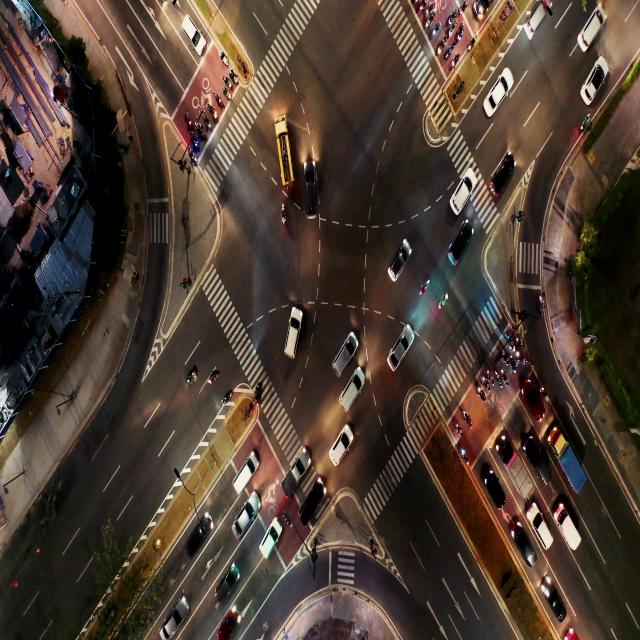bus: (276, 139, 290, 172)
car: (164, 611, 180, 638), (390, 343, 406, 368), (454, 235, 467, 263), (583, 21, 598, 44), (590, 68, 602, 95), (286, 328, 297, 355), (537, 447, 546, 479), (192, 529, 205, 551), (304, 493, 317, 515), (220, 576, 234, 596), (305, 187, 316, 212), (496, 169, 507, 194), (222, 617, 236, 636), (337, 350, 350, 370), (394, 254, 407, 274), (455, 186, 467, 206), (188, 21, 198, 44), (530, 9, 540, 31), (529, 389, 538, 413), (343, 388, 354, 407), (494, 82, 503, 105), (238, 512, 249, 530), (263, 537, 275, 552), (491, 484, 501, 502), (520, 532, 528, 553), (335, 443, 343, 463), (540, 516, 546, 542), (237, 470, 245, 489), (553, 589, 559, 614)
motorcycle: (536, 292, 547, 311), (581, 112, 592, 130), (420, 276, 430, 294), (210, 370, 219, 386), (223, 392, 232, 404), (188, 370, 194, 388), (281, 207, 287, 224), (460, 448, 467, 462), (253, 387, 261, 399), (440, 294, 447, 307), (541, 387, 547, 400), (450, 57, 458, 66), (437, 44, 443, 56), (230, 69, 236, 80), (214, 96, 221, 104), (458, 28, 463, 39), (444, 49, 450, 58), (455, 422, 460, 432), (465, 412, 470, 422), (502, 351, 507, 361), (469, 40, 475, 48), (449, 26, 455, 34), (479, 390, 484, 399), (462, 3, 466, 14), (522, 356, 528, 363), (185, 114, 190, 122), (210, 108, 215, 116), (516, 335, 520, 345), (433, 27, 437, 37), (418, 3, 423, 11), (222, 54, 226, 63), (494, 371, 499, 378), (425, 20, 430, 27), (426, 7, 431, 14), (511, 358, 514, 369), (198, 126, 202, 134), (482, 377, 486, 385), (488, 372, 492, 380), (448, 16, 452, 24), (224, 90, 229, 96), (509, 341, 513, 348), (224, 77, 227, 85), (516, 351, 520, 357), (205, 118, 208, 125), (193, 138, 196, 144), (502, 370, 504, 378), (192, 154, 194, 161)
truck: (290, 459, 302, 482), (510, 458, 520, 482), (564, 451, 574, 472), (567, 523, 573, 544)
